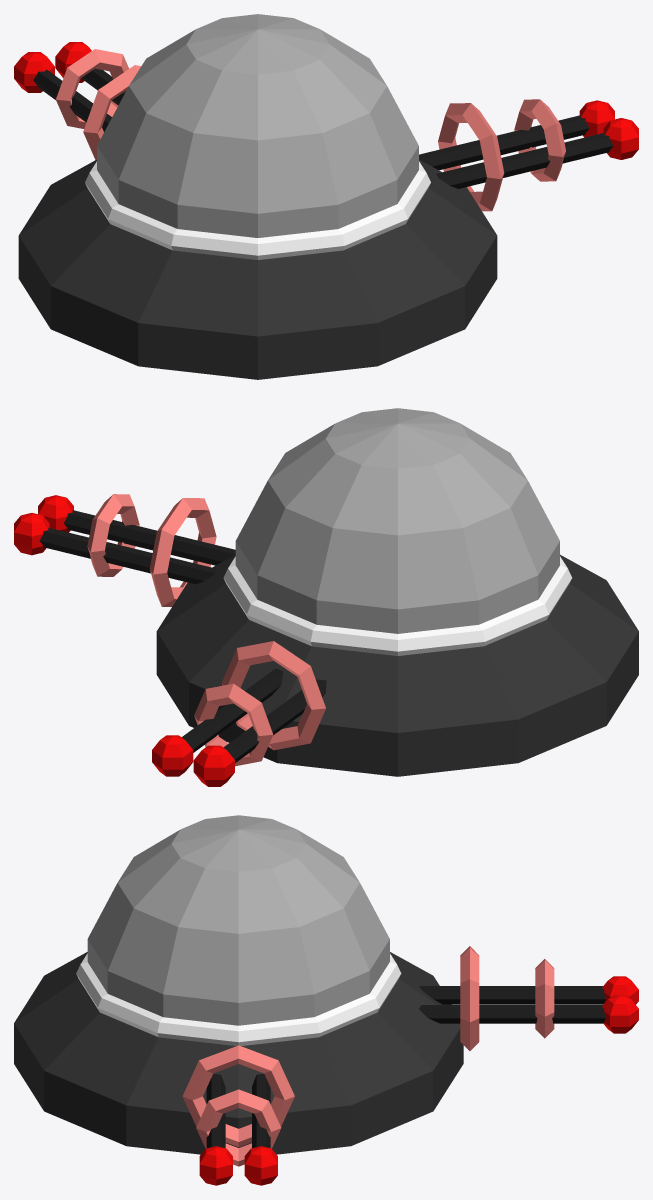
Rendered from alien_ship4.fbx.
The picture shows the model from 3 angles, top to bottom: view 1: azimuth 30°, elevation 25°; view 2: azimuth 150°, elevation 25°; view 3: azimuth 270°, elevation 25°; orthographic projection. The views are drawn at different scales.
Parts seen in each view (by area): view 1: merge4; view 2: merge4; view 3: merge4.
Part boxes in pixels (bbox=[...]): merge4: bbox=[14, 14, 638, 379]; merge4: bbox=[14, 408, 638, 786]; merge4: bbox=[14, 815, 638, 1185].
Size of the model in its own units: 2.78 by 1.15 by 2.78.
